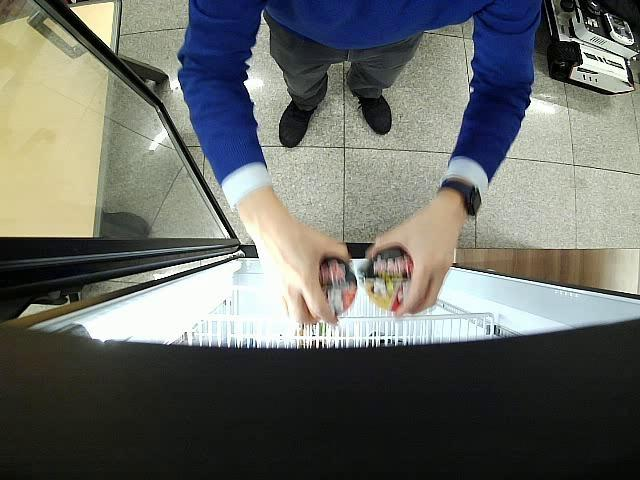08_buldak_S: (359, 246, 414, 310), (318, 256, 358, 316)
